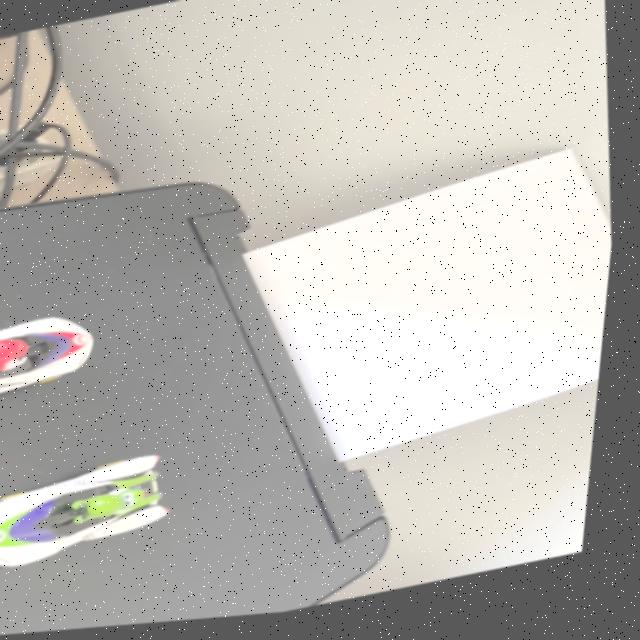mario: (0, 300, 128, 413)
yoshi: (0, 444, 205, 583)
